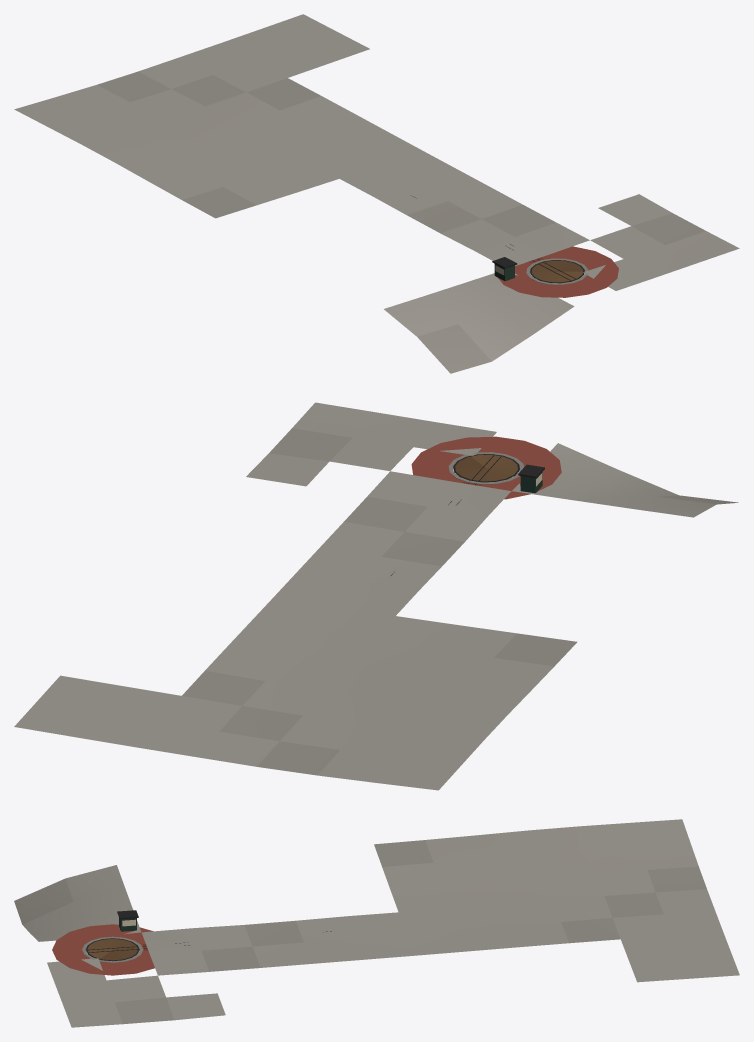
The model's file is turntable_lod1.glb.
3 views of the same model, one above another, from view 1: azimuth 30°, elevation 25°; view 2: azimuth 150°, elevation 25°; view 3: azimuth 270°, elevation 25° (orthographic). The views are drawn at different scales.
Visible parts, largest first — view 1: L1_paving, L1_wood; view 2: L1_paving, L1_wood; view 3: L1_paving, L1_wood, L1_metal.
Part boxes in pixels (x1,y1,x2,y2): L1_paving: (14, 14, 739, 373); L1_wood: (530, 260, 583, 282); L1_paving: (14, 402, 738, 790); L1_wood: (453, 454, 519, 481); L1_paving: (14, 819, 739, 1027); L1_wood: (87, 939, 137, 960); L1_metal: (86, 910, 331, 961).
Size of the model in its own units: 80.7 by 8.12 by 125.
